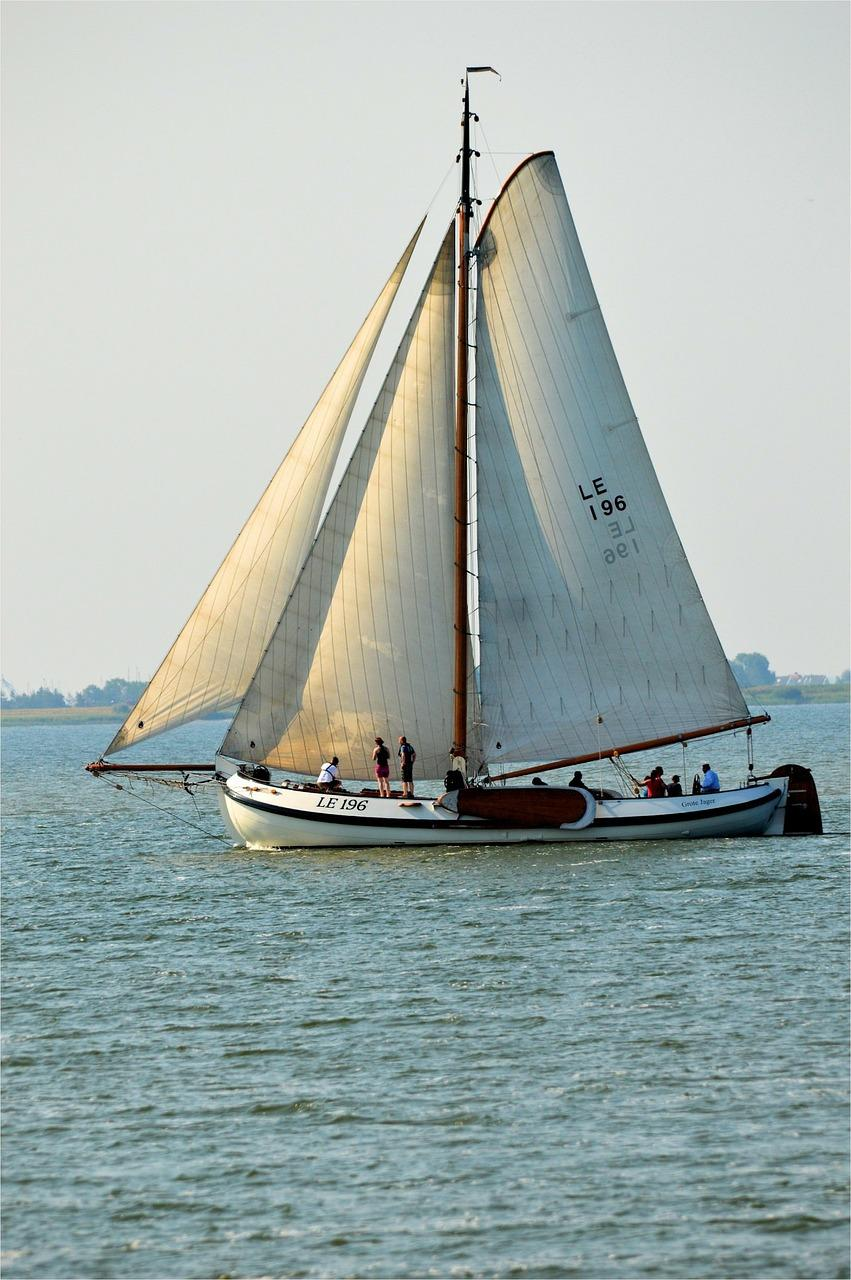Ship: (84, 61, 834, 860)
